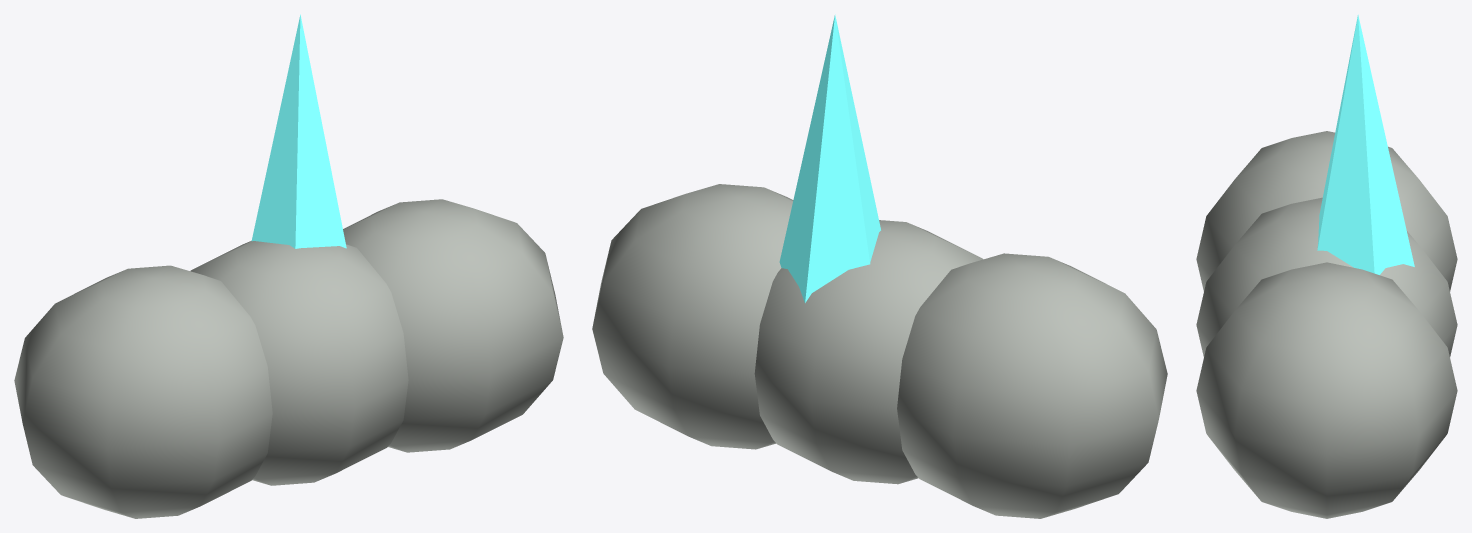
Rendered from obstacle_2.glb.
3 renders of one model, left to right at view 1: azimuth 30°, elevation 25°; view 2: azimuth 150°, elevation 25°; view 3: azimuth 270°, elevation 25°, orthographic. The views are drawn at different scales.
Parts seen in each view (by area): view 1: pierre, cristal; view 2: pierre, cristal; view 3: pierre, cristal.
Part boxes in pixels (x1,y1,x2,y2): pierre: (14,199,563,518); cristal: (251,14,346,248); pierre: (592,184,1167,518); cristal: (779,14,880,302); pierre: (1196,131,1457,518); cristal: (1317,14,1414,274).
Size of the model in its own units: 0.98 by 0.775 by 0.42.
